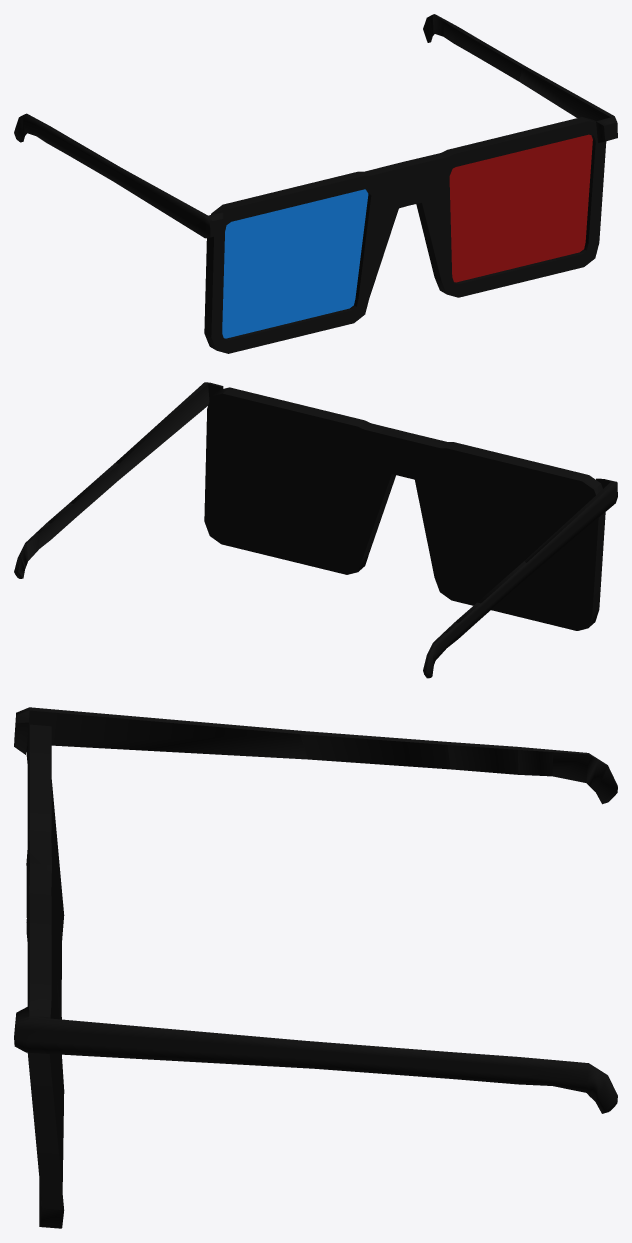
The model's file is Spects_6.FBX.
The picture shows the model from 3 angles, top to bottom: view 1: azimuth 30°, elevation 25°; view 2: azimuth 150°, elevation 25°; view 3: azimuth 270°, elevation 25°; orthographic projection. The views are drawn at different scales.
Parts seen in each view (by area): view 1: Glasses; view 2: Glasses; view 3: Glasses.
Part boxes in pixels (x1,y1,x2,y2): Glasses: (14, 14, 617, 353); Glasses: (14, 382, 617, 678); Glasses: (14, 707, 617, 1228).
Size of the model in its own units: 26.74 by 9.16 by 21.58.
